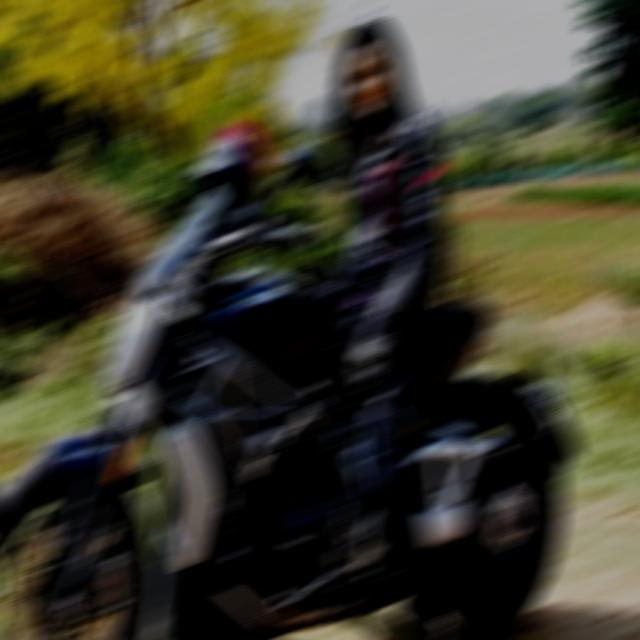Without Helmet: (332, 12, 408, 126)
